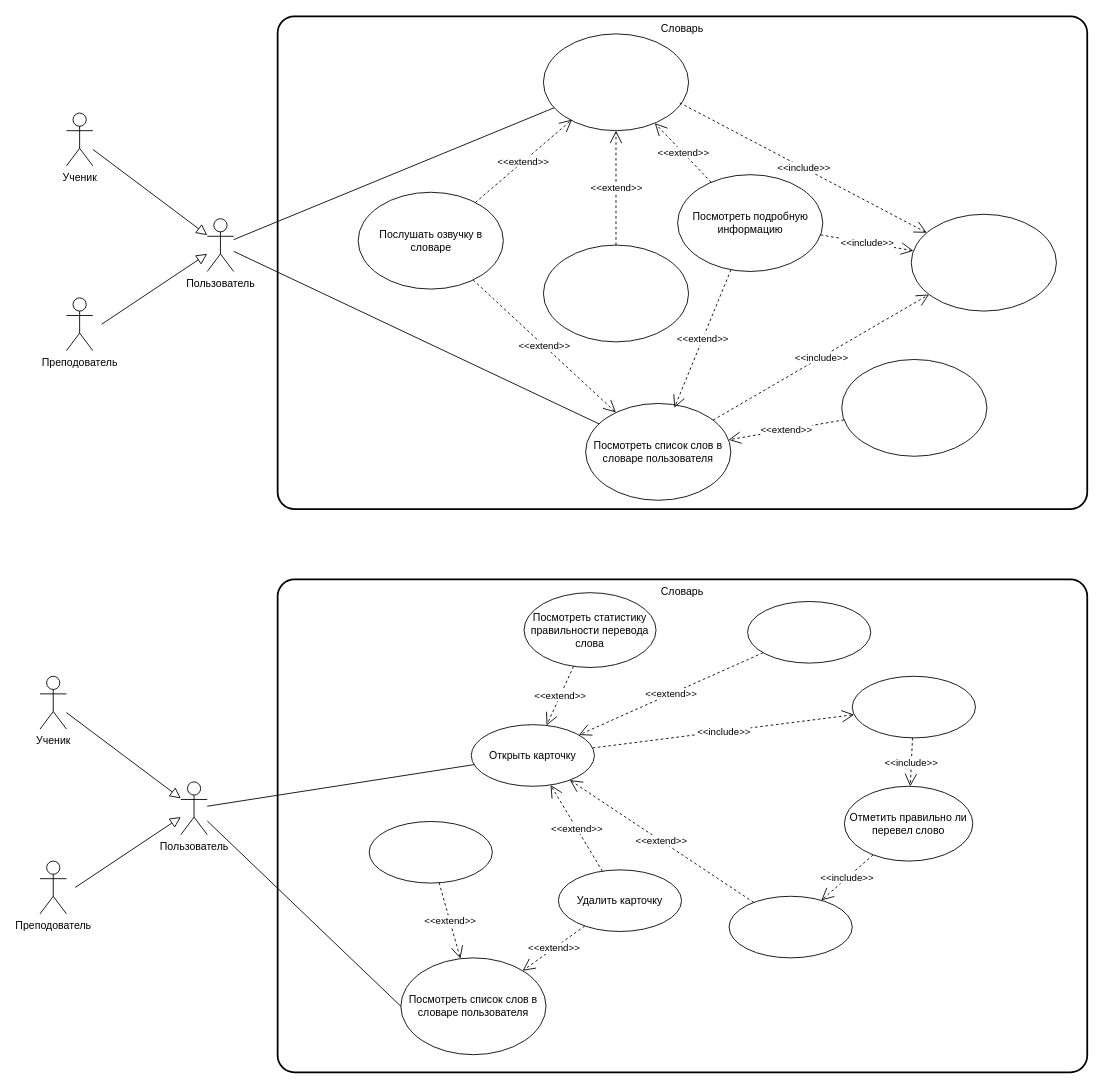
The diagram is 1103 pixels wide and 1088 high, and some of its shapes have lost their labels. The centre of each missing label's shape, as x and y in pixels:
"Выбрать другую карточку" belongs at pixel 790 926.
"Добавить в словарь пользователя" belongs at pixel 616 293.
"Добавить слово в карточки" belongs at pixel 430 852.
"Найти слово в словаре" belongs at pixel 616 82.
"Перевести слово на карточке" belongs at pixel 913 706.
"Переключить язык карточек" belongs at pixel 809 632.
"Посмотреть перевод" belongs at pixel 983 262.
"Удалить слово" belongs at pixel 914 407.
